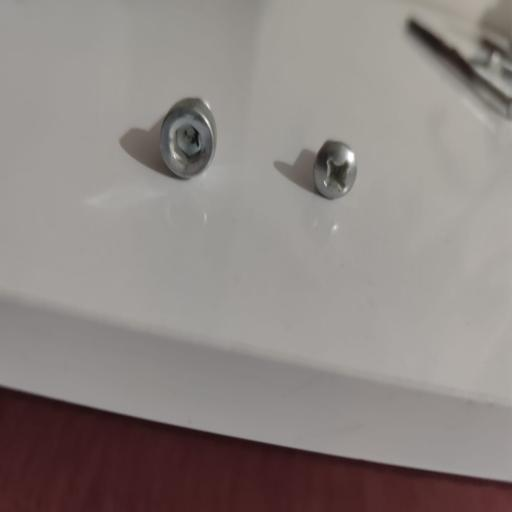Hex-Allen: (154, 99, 218, 184)
Phillips: (311, 137, 361, 201)
